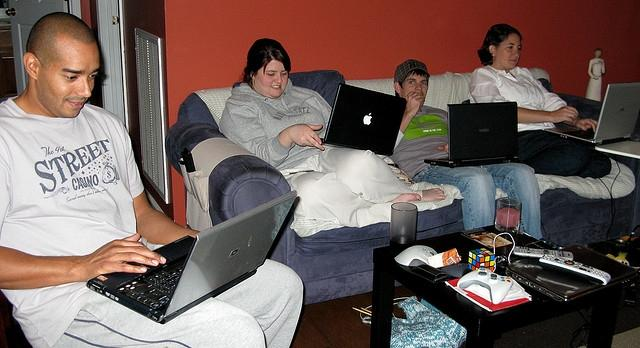apple: (363, 113, 372, 125)
